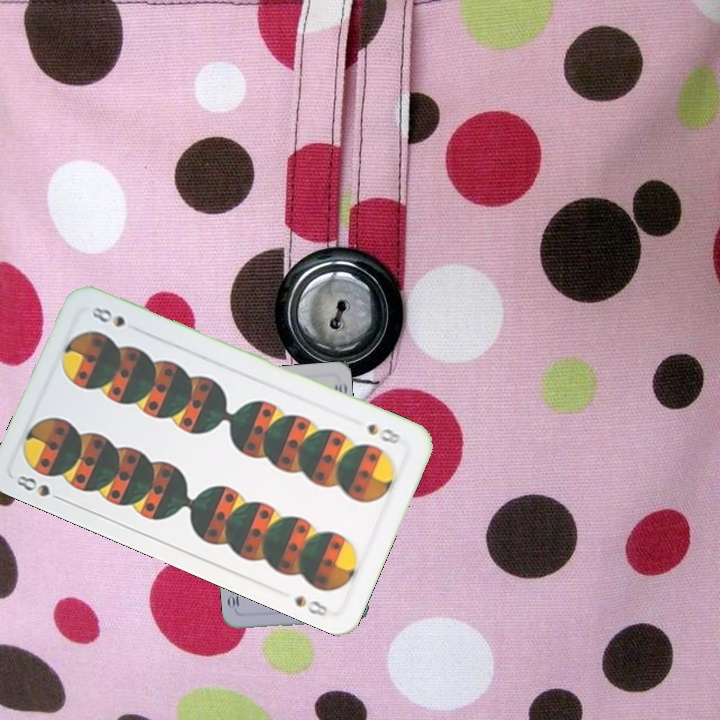S8: (12, 471, 68, 505), (363, 419, 409, 447)
